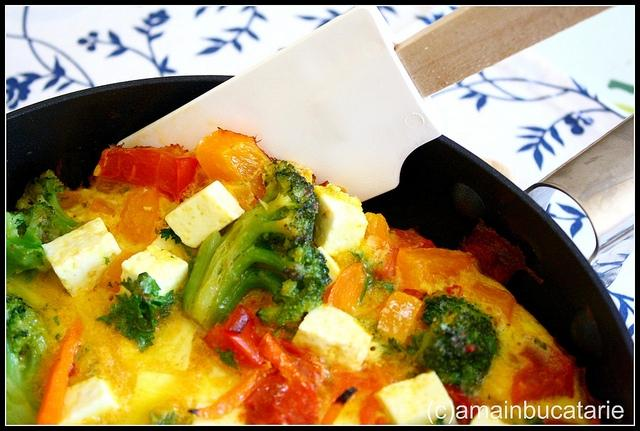bell pepper: (196, 127, 272, 212), (94, 148, 198, 200), (36, 315, 83, 424), (202, 304, 272, 371), (510, 338, 576, 406), (244, 372, 318, 426), (392, 246, 473, 294), (188, 370, 264, 419), (258, 332, 316, 390), (117, 186, 160, 247), (376, 290, 422, 346), (469, 280, 517, 327), (329, 363, 389, 399), (328, 262, 366, 314), (100, 250, 136, 292), (364, 212, 388, 241)
broccoli: (181, 161, 332, 330), (404, 294, 498, 396), (96, 272, 180, 353), (6, 292, 50, 425), (10, 200, 58, 248), (48, 216, 70, 236)
carrot: (36, 312, 84, 426), (188, 367, 280, 420), (323, 263, 390, 328), (258, 331, 303, 380), (321, 387, 358, 424)
tomato: (238, 332, 324, 425), (92, 146, 200, 205), (456, 219, 544, 286), (202, 304, 276, 368), (510, 345, 574, 406), (395, 247, 474, 294), (388, 228, 438, 276), (322, 262, 366, 314), (470, 280, 516, 326), (359, 376, 389, 424)
